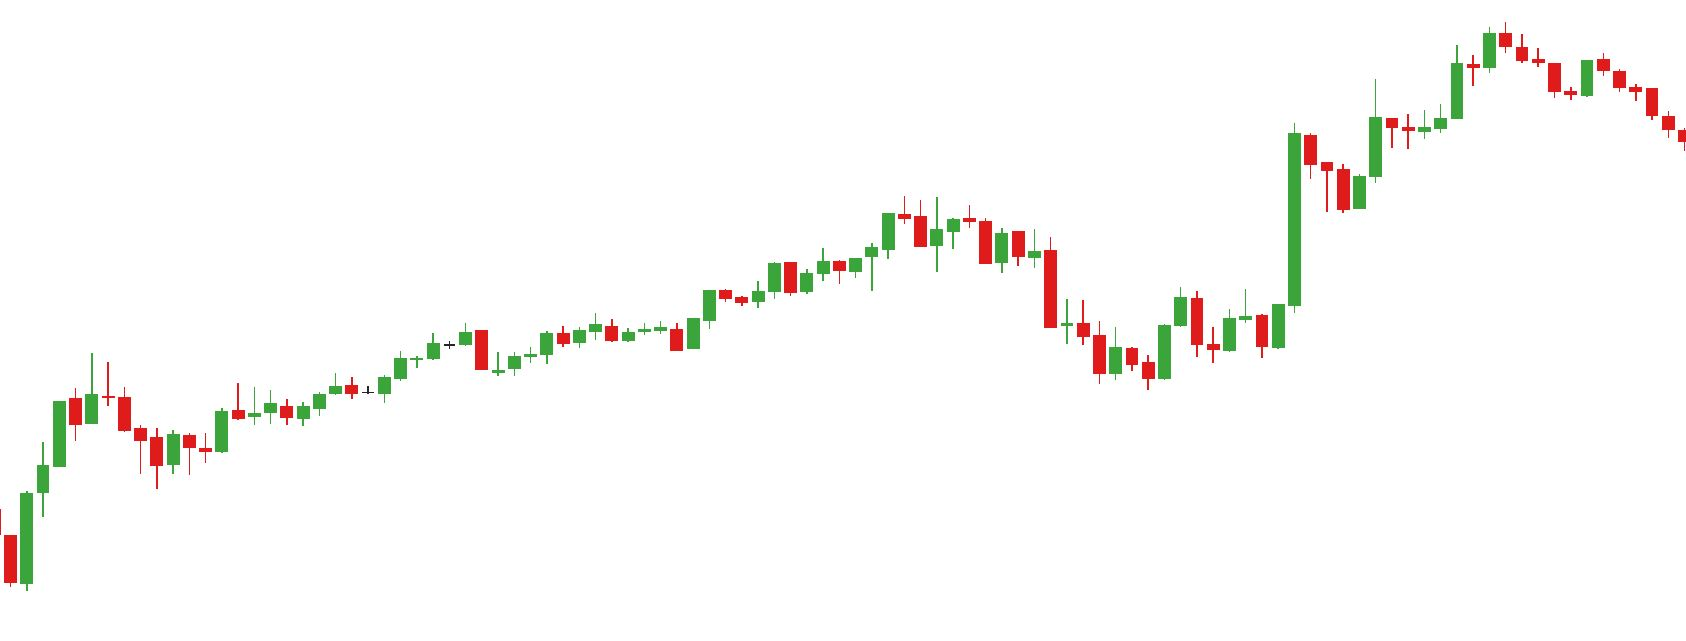buy: (54, 411, 184, 487)
